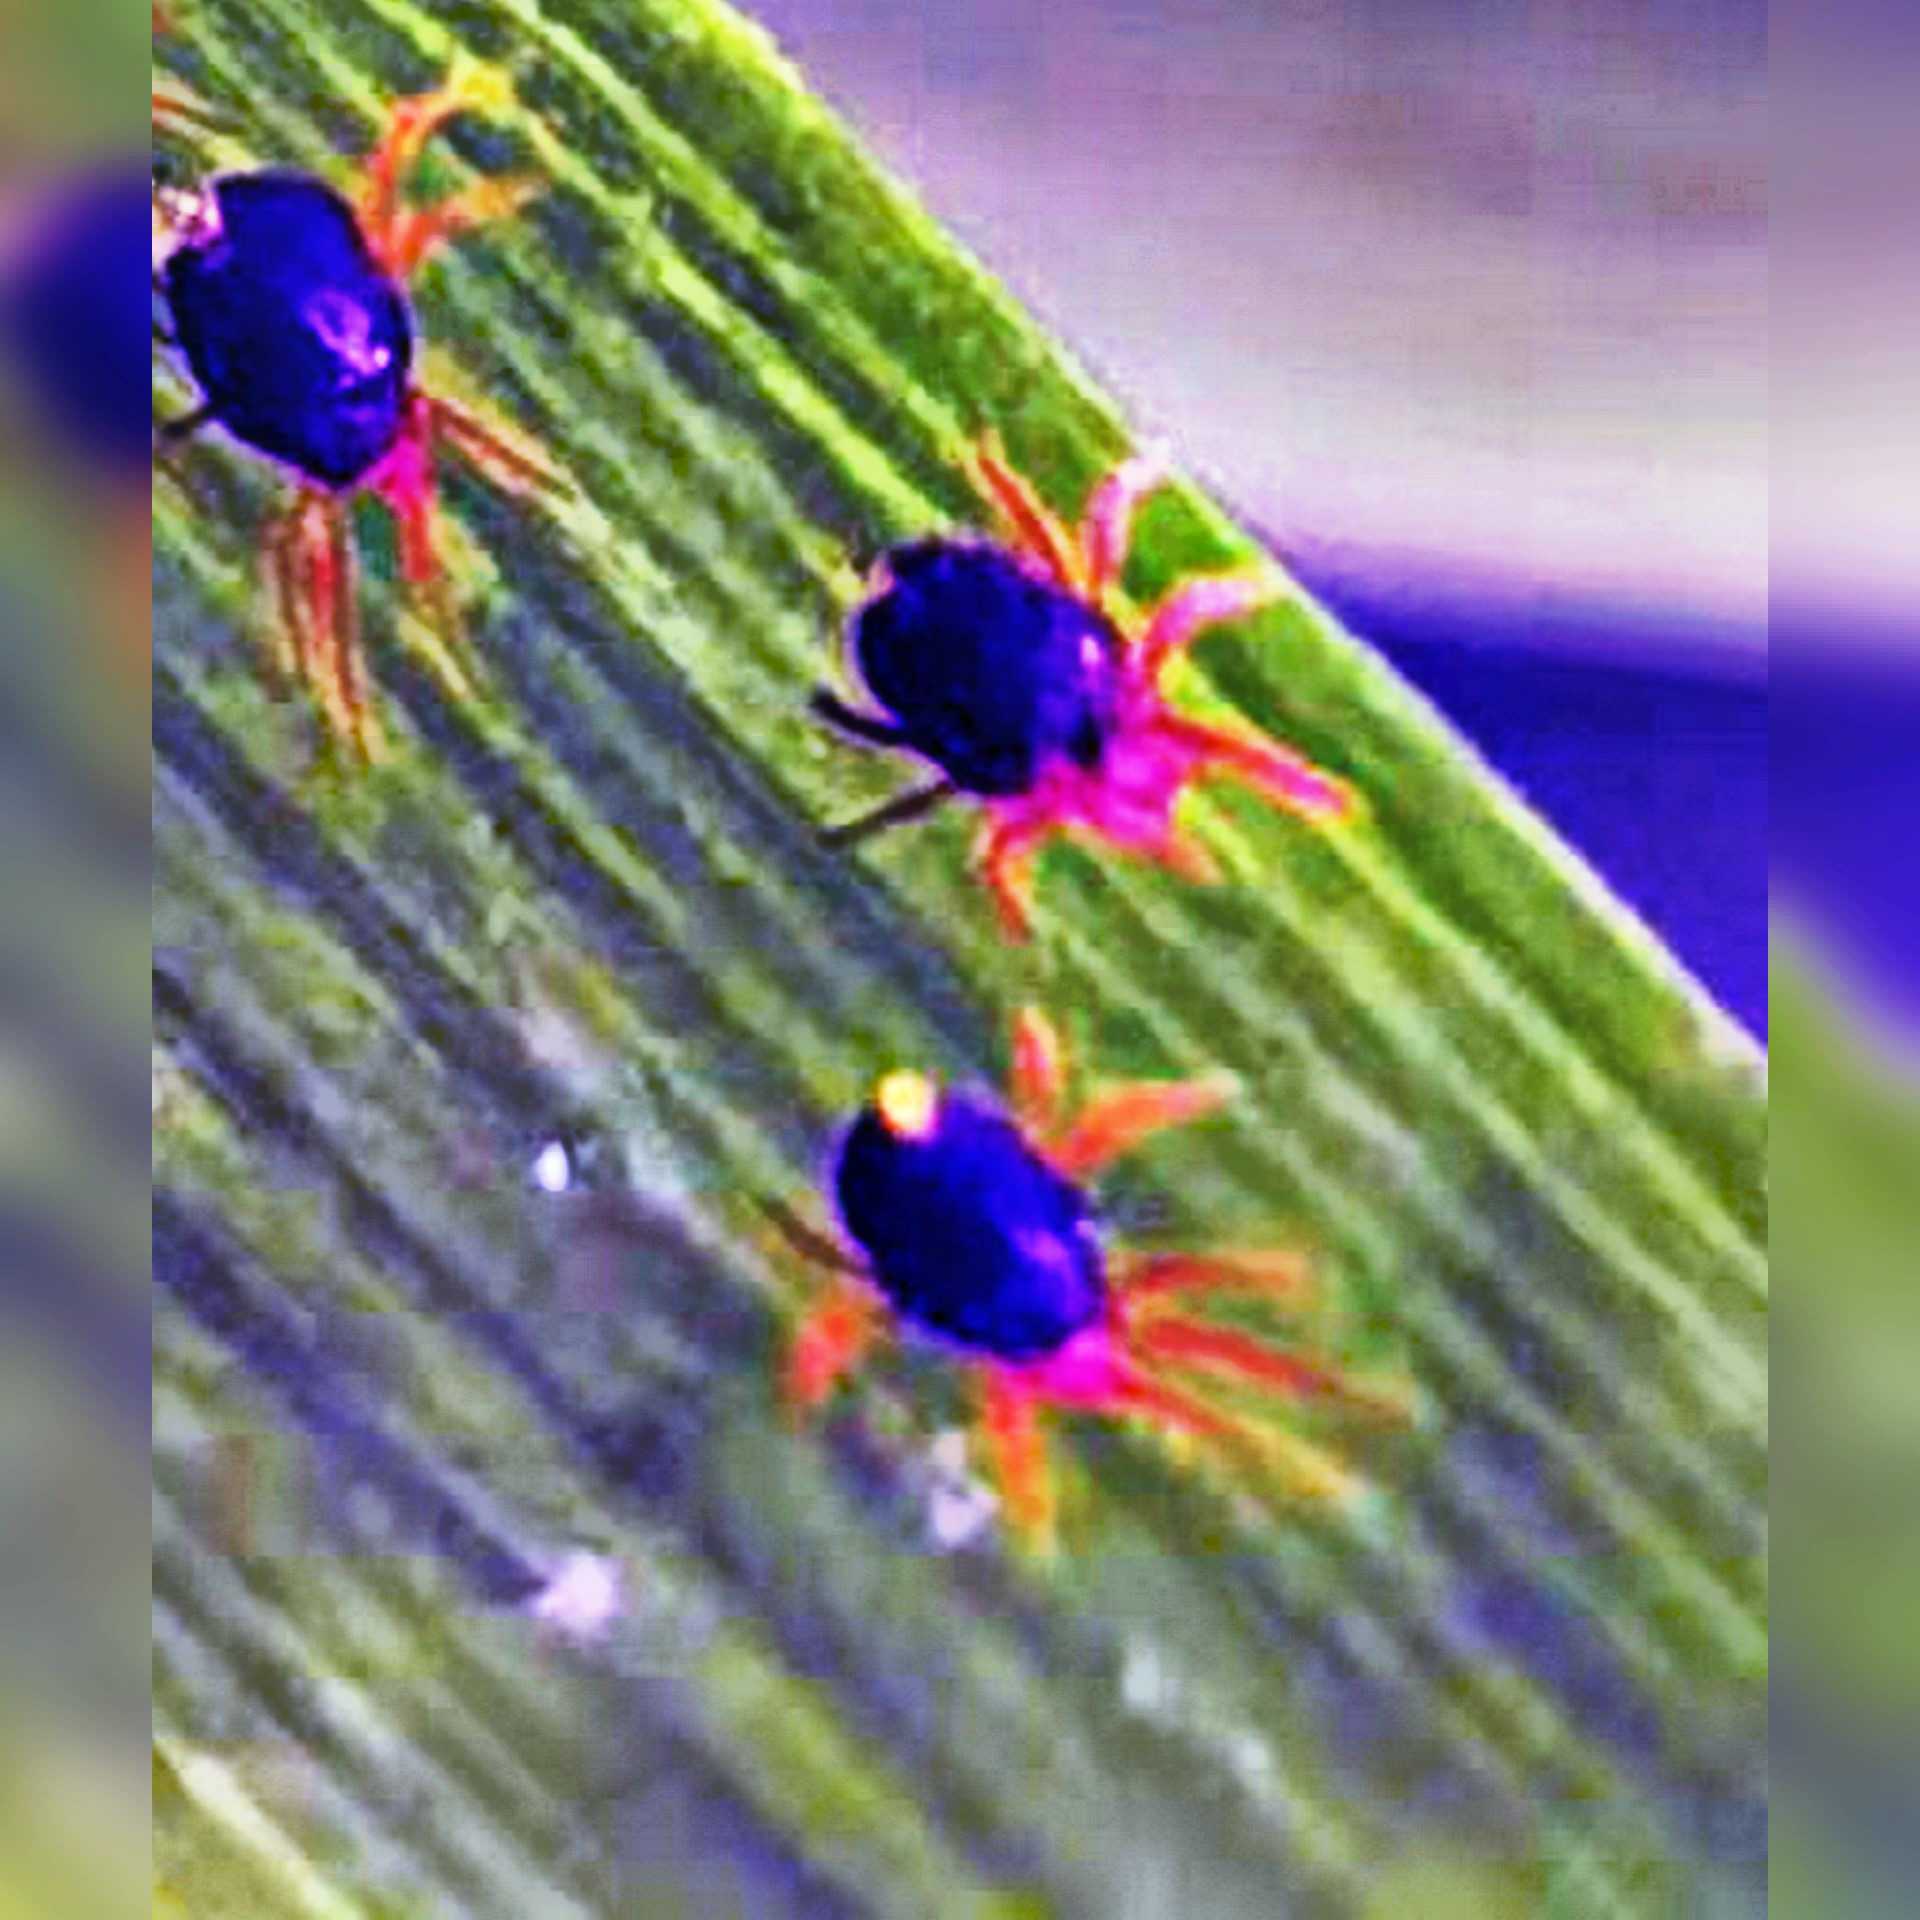Wheat Red Spider: (724, 411, 1382, 958)
